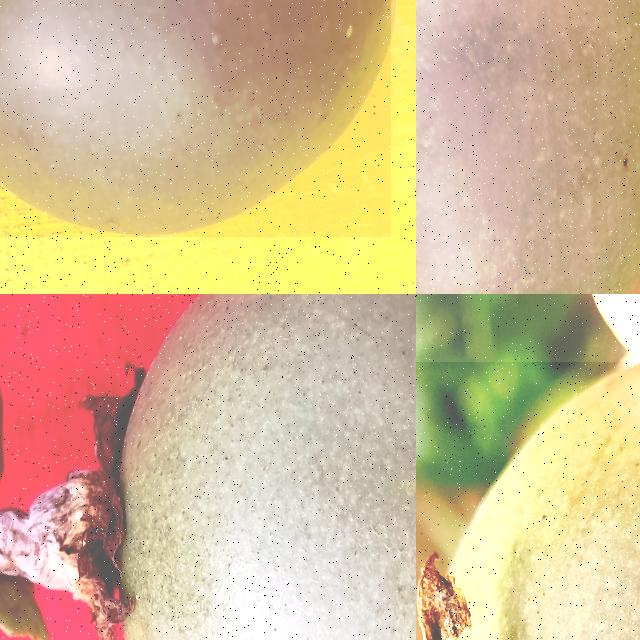Estado-1: (0, 294, 416, 640)
Estado-2: (417, 373, 640, 640)
Estado-4: (416, 0, 640, 294)
